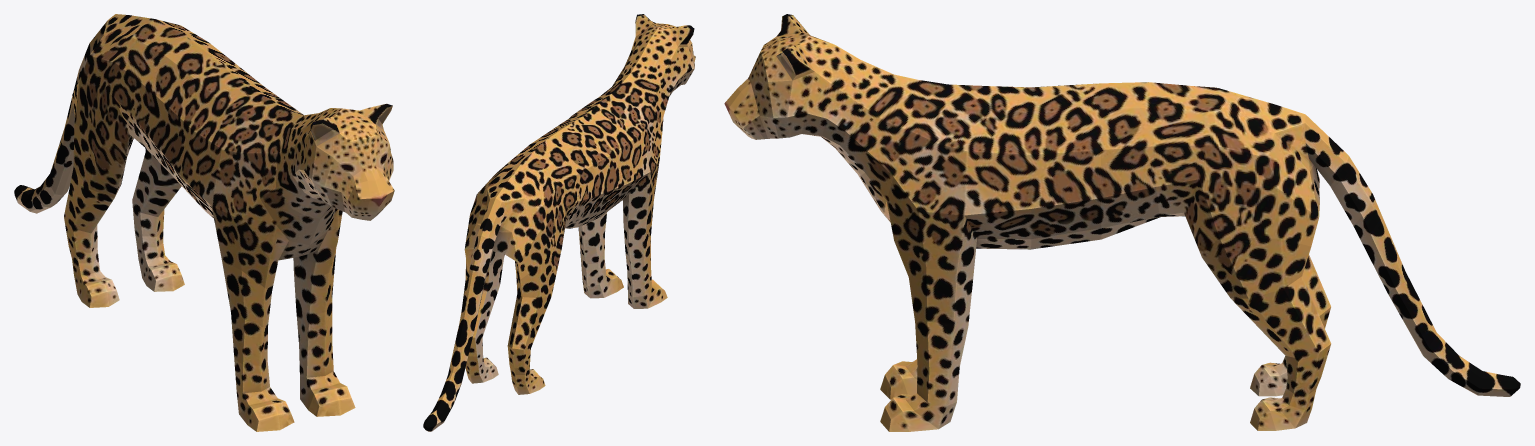
File: jaguar.glb
The picture shows the model from 3 angles, left to right: view 1: azimuth 30°, elevation 25°; view 2: azimuth 150°, elevation 25°; view 3: azimuth 270°, elevation 25°; orthographic projection. The views are drawn at different scales.
Visible parts, largest first — view 1: Jaguar_mesh; view 2: Jaguar_mesh; view 3: Jaguar_mesh.
Part boxes in pixels (box(x1,y1,x2,y2)): Jaguar_mesh: box(14, 14, 394, 431); Jaguar_mesh: box(423, 14, 695, 431); Jaguar_mesh: box(724, 14, 1520, 431).
Size of the model in its own units: 2.51 by 6.84 by 13.22.
Materials: 1 (1 with a texture image).
